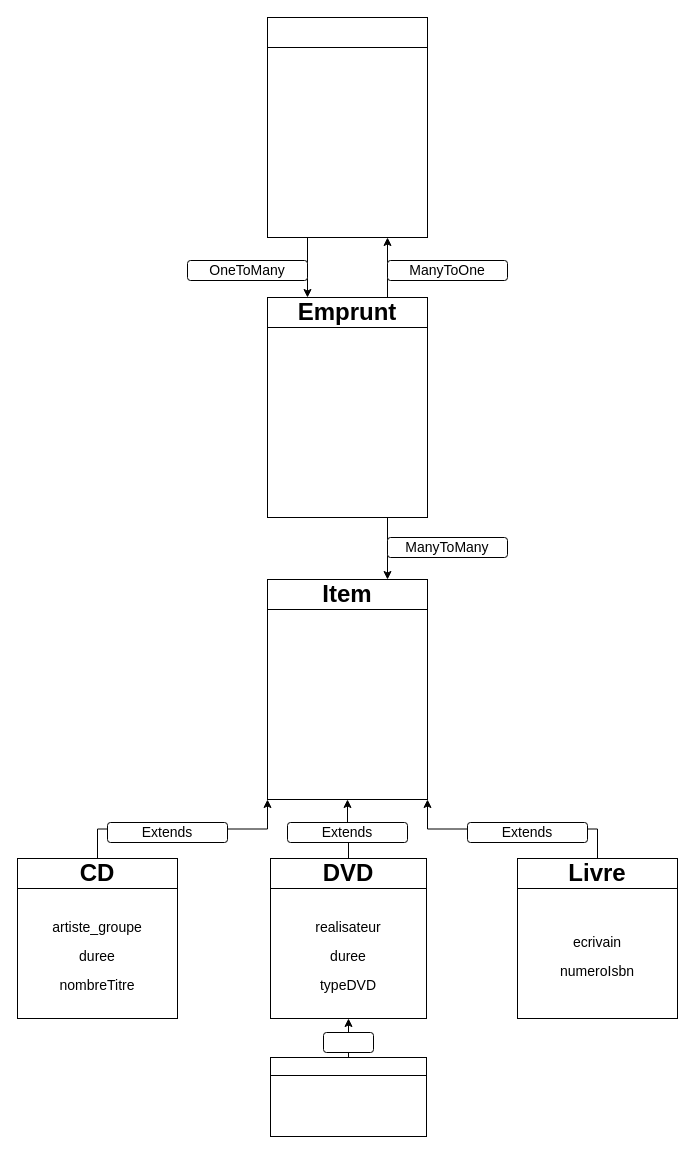
The diagram is 695 pixels wide and 1154 high, and some of its shapes have lost their labels. Here are the shapes that lost their labels. From the top down, the centre of each, then its label:
At (347,32): "User".
At (347,142): "id login password nom prenom".
At (347,422): "numero dateEmprunt dateRetour User Item".
At (347,704): "id titre nombreExemplaires dateParution emprunts".
At (348,1042): "Enum".
At (348,1066): "TypeDVD".
At (348,1105): "normal blue_ray".
